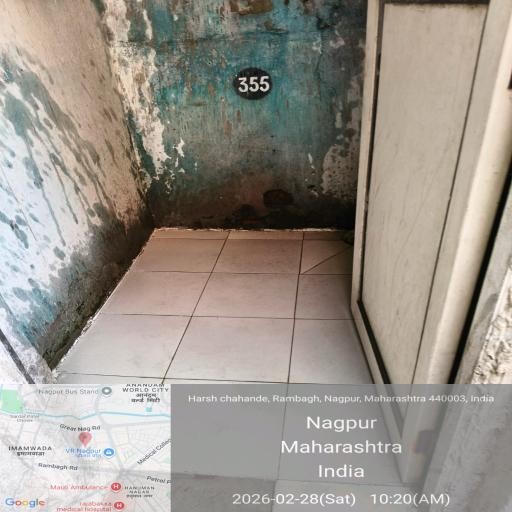dirty_floor: (29, 30, 480, 187)
partial_dirty_floor: (100, 221, 380, 512)
